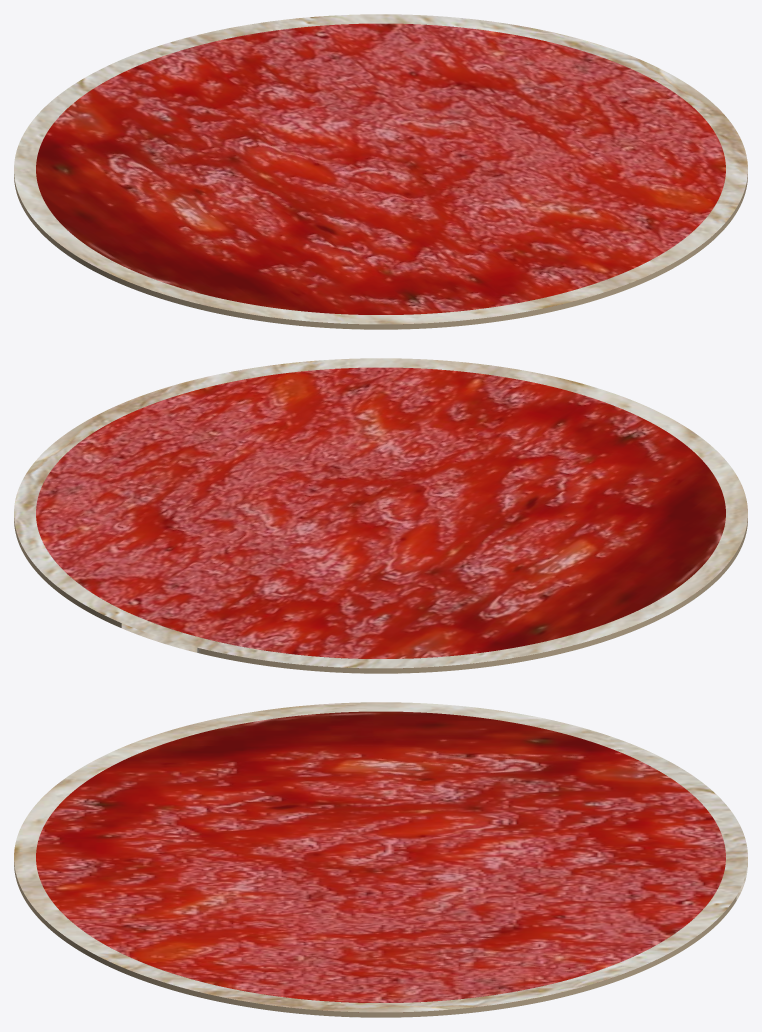
Rendered from doughwithsauce.fbx.
3 renders of one model, top to bottom at view 1: azimuth 30°, elevation 25°; view 2: azimuth 150°, elevation 25°; view 3: azimuth 270°, elevation 25°, orthographic.
Parts seen in each view (by area): view 1: Cylinder.001, Cylinder; view 2: Cylinder.001, Cylinder; view 3: Cylinder.001, Cylinder.
Part boxes in pixels (x1=…): Cylinder.001: x1=36, y1=23, x2=725, y2=314; Cylinder: x1=14, y1=14, x2=747, y2=329; Cylinder.001: x1=36, y1=367, x2=725, y2=658; Cylinder: x1=14, y1=358, x2=747, y2=673; Cylinder.001: x1=36, y1=711, x2=725, y2=1002; Cylinder: x1=14, y1=702, x2=747, y2=1017.
Size of the model in its own units: 200 by 1.6 by 200.
